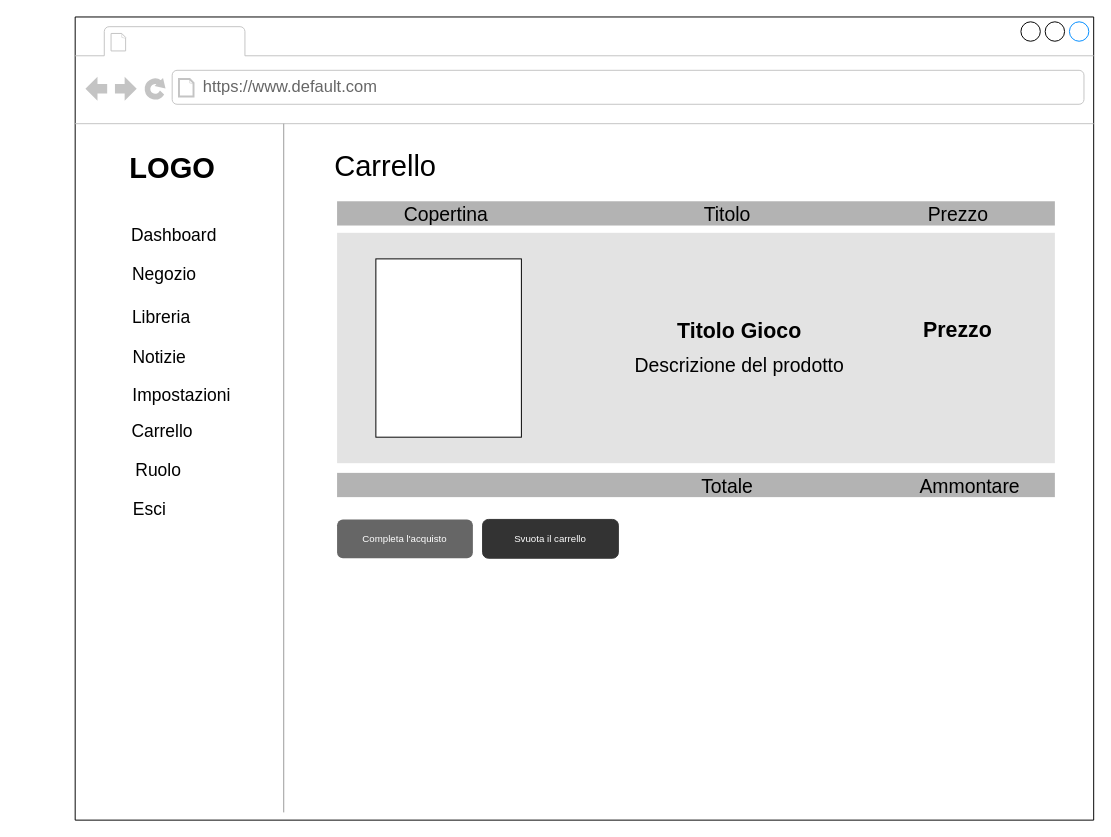
The diagram is 1111 pixels wide and 837 high, and some of its shapes have lost their labels. The shapes that lost their labels are listed below. From the top down, each one's centre as x and y in pixels, then its label:
pixel 186 41: Page 1
pixel 448 347: Copertina Gioco
